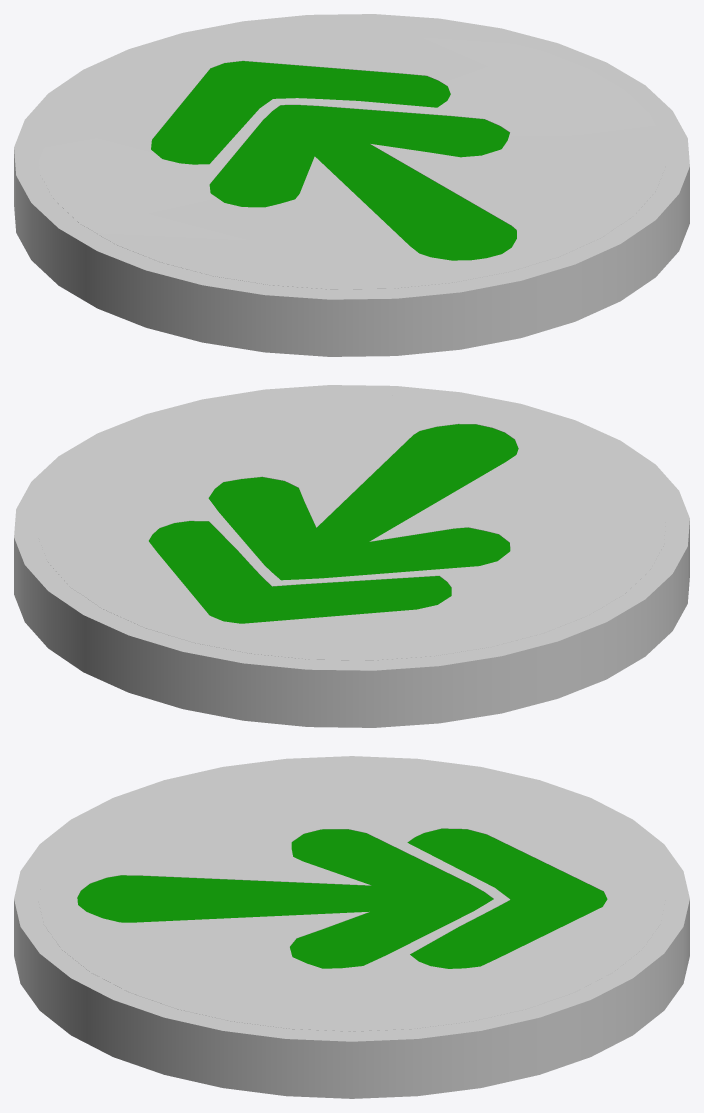
File: double rise token.fbx
The picture shows the model from 3 angles, top to bottom: view 1: azimuth 30°, elevation 25°; view 2: azimuth 150°, elevation 25°; view 3: azimuth 270°, elevation 25°; orthographic projection.
Parts seen in each view (by area): view 1: Cylinder.003; view 2: Cylinder.003; view 3: Cylinder.003.
Part boxes in pixels (bbox=[...]): Cylinder.003: bbox=[14, 14, 689, 356]; Cylinder.003: bbox=[14, 385, 689, 727]; Cylinder.003: bbox=[14, 756, 689, 1098].
Size of the model in its own units: 66.18 by 6.38 by 66.18.
